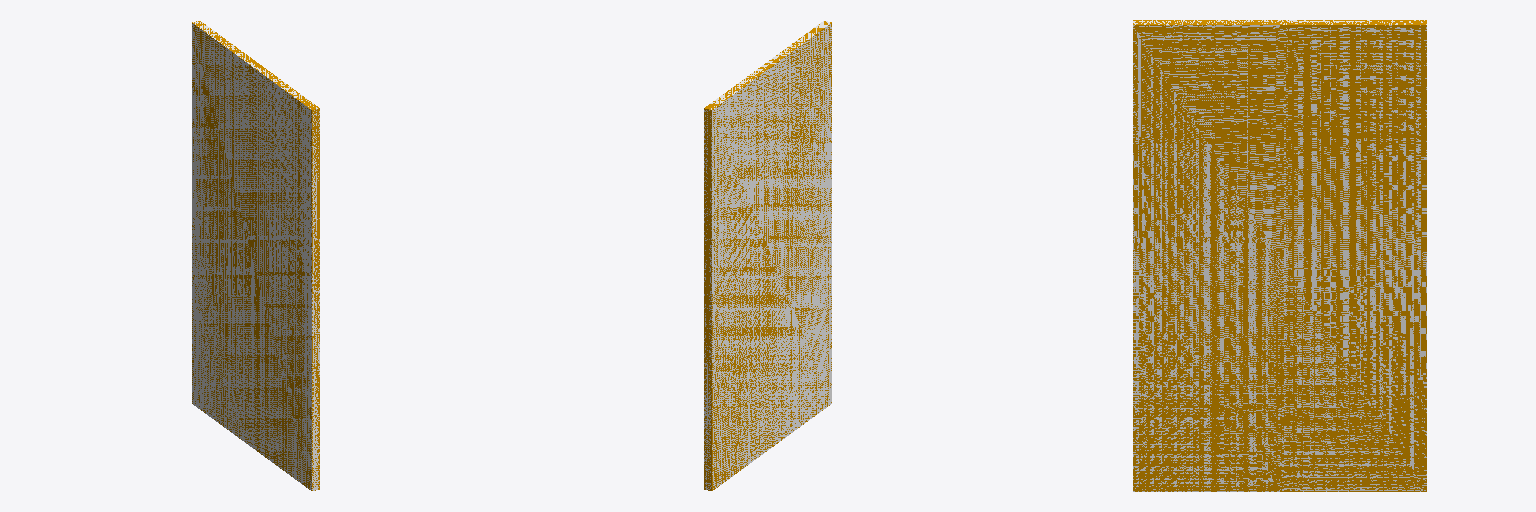
URDF robot description (my_object):
<?xml version="1.0" ?> 
<robot name="my_object" static="true">
  <link name="base_link">
  <inertial>
    <mass value="1.0" />
    <origin xyz="0 0 0.0" />
    <inertia ixx="1.0" ixy="0.0" ixz="0.0" iyy="1.0" iyz="0.0" izz="1.0"/>
  </inertial>
  <visual>
   <origin xyz="0 0 0.0" rpy="0 0 0" />
   <geometry>
     <mesh filename="package://cob_gazebo_objects/Media/models/sliding_door.dae"/>
   </geometry>
  </visual>
  <collision>
   <origin xyz="0 0 0.85" rpy="0 0 0" />
   <geometry>
     <mesh filename="package://cob_gazebo_objects/Media/models/sliding_door.dae" />
   </geometry>
  </collision>     
  </link>

<gazebo>
	<static>true</static>
</gazebo>
</robot>

--- Facts derived from the render (not from the file) ---
Views: 3 orthographic renders of the robot side by side, from view 1: azimuth 30°, elevation 25°; view 2: azimuth 150°, elevation 25°; view 3: azimuth 270°, elevation 25°.
Model my_object with 1 links and 0 joints (none), rooted at base_link, posed every joint at zero.
Links seen in each view (by area): view 1: base_link; view 2: base_link; view 3: base_link.
Link boxes in pixels (box(x1,y1,x2,y2)): base_link: box(192, 21, 319, 490); base_link: box(704, 21, 831, 490); base_link: box(1133, 20, 1426, 491).
Bounding box of the posed robot: 0.0015 × 0.0391 × 0.0686 m (x, y, z).
1 mesh visuals loaded from 1 distinct referenced files (1 Collada DAE).